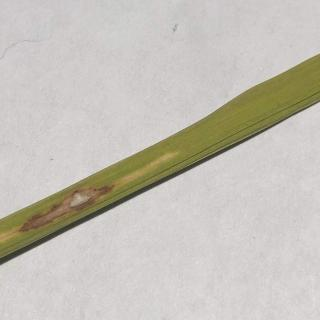Blast: (33, 178, 122, 230)
